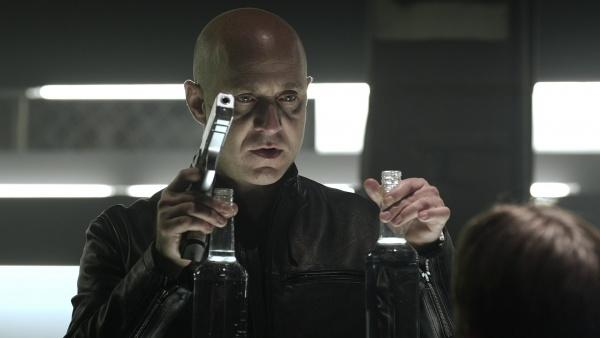Gun: (179, 94, 236, 267)
